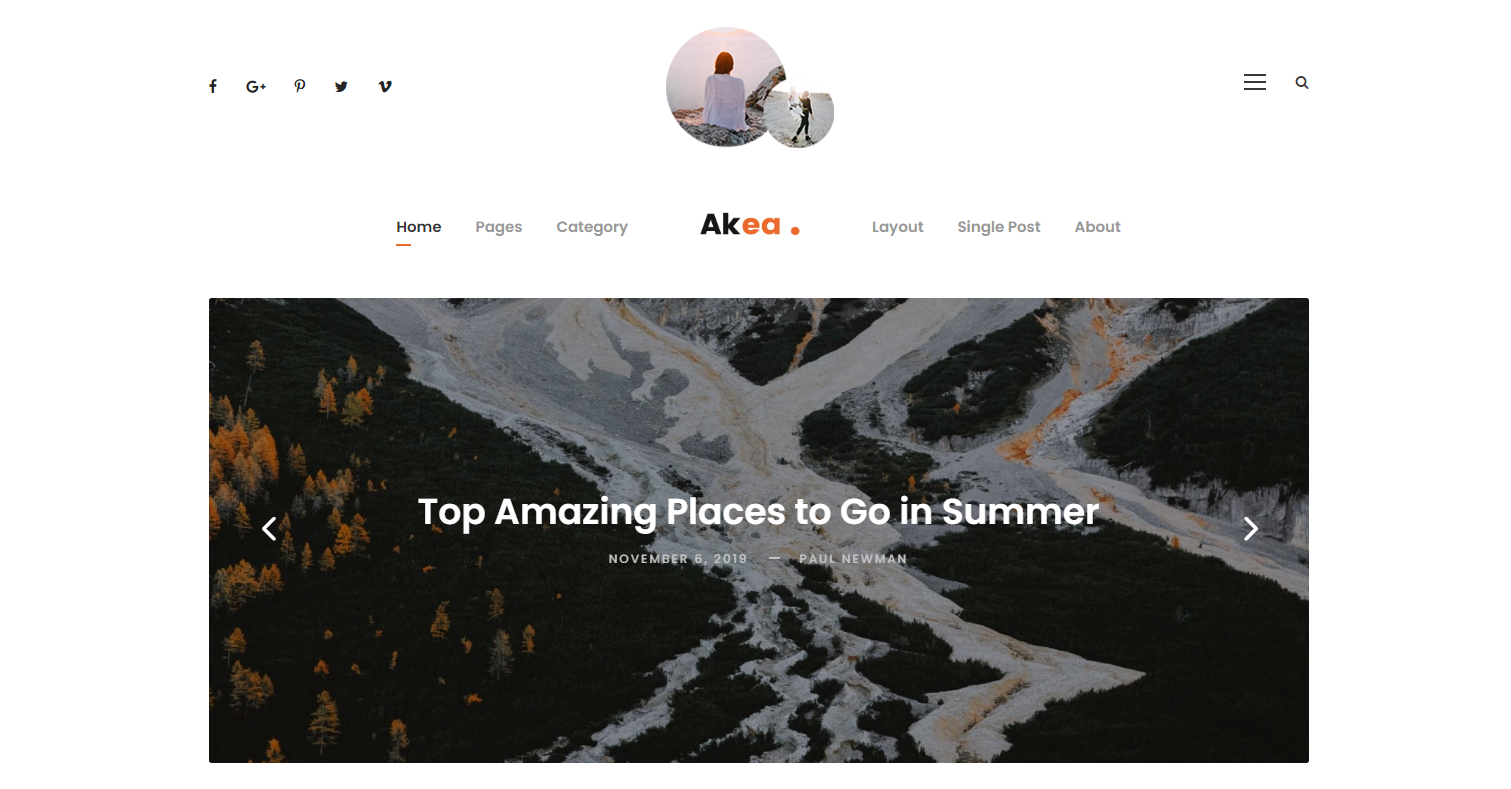menu-bar: (9, 9, 1493, 286)
